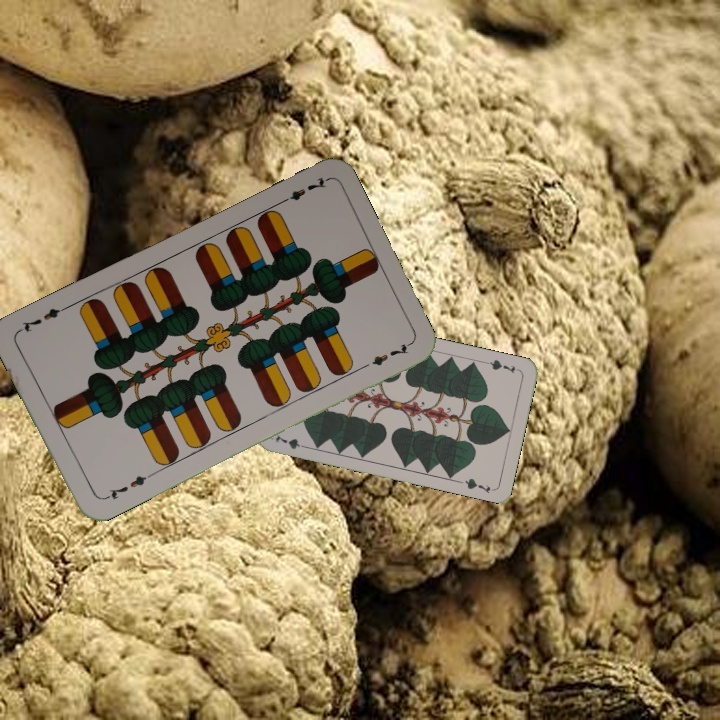E7: (275, 173, 330, 207), (98, 471, 153, 503)
G7: (271, 431, 312, 452), (482, 355, 522, 375)
